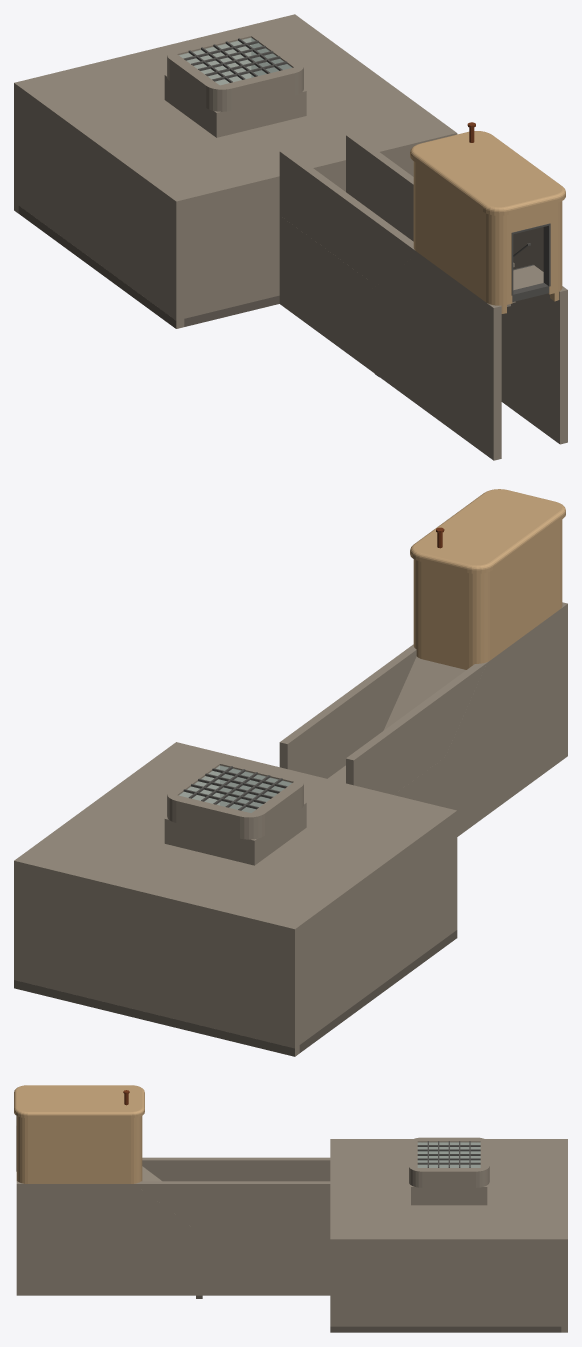
Rendered from bunker.glb.
3 views of the same model, one above another, from view 1: azimuth 30°, elevation 25°; view 2: azimuth 150°, elevation 25°; view 3: azimuth 270°, elevation 25° (orthographic). The views are drawn at different scales.
Visible parts, largest first — view 1: bunker, hut; view 2: bunker, hut; view 3: bunker, hut.
Part boxes in pixels (<box>): bunker: <box>14,14,567,460</box>; hut: <box>167,31,565,313</box>; bunker: <box>14,602,567,1056</box>; hut: <box>167,489,565,839</box>; bunker: <box>16,1139,567,1332</box>; hut: <box>14,1085,489,1187</box>.
Bounding box in the file's own units: 10.61 × 9.99 × 24.72.
